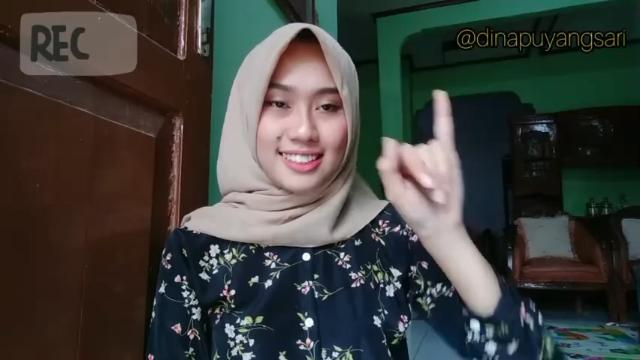I: (376, 88, 466, 230)
